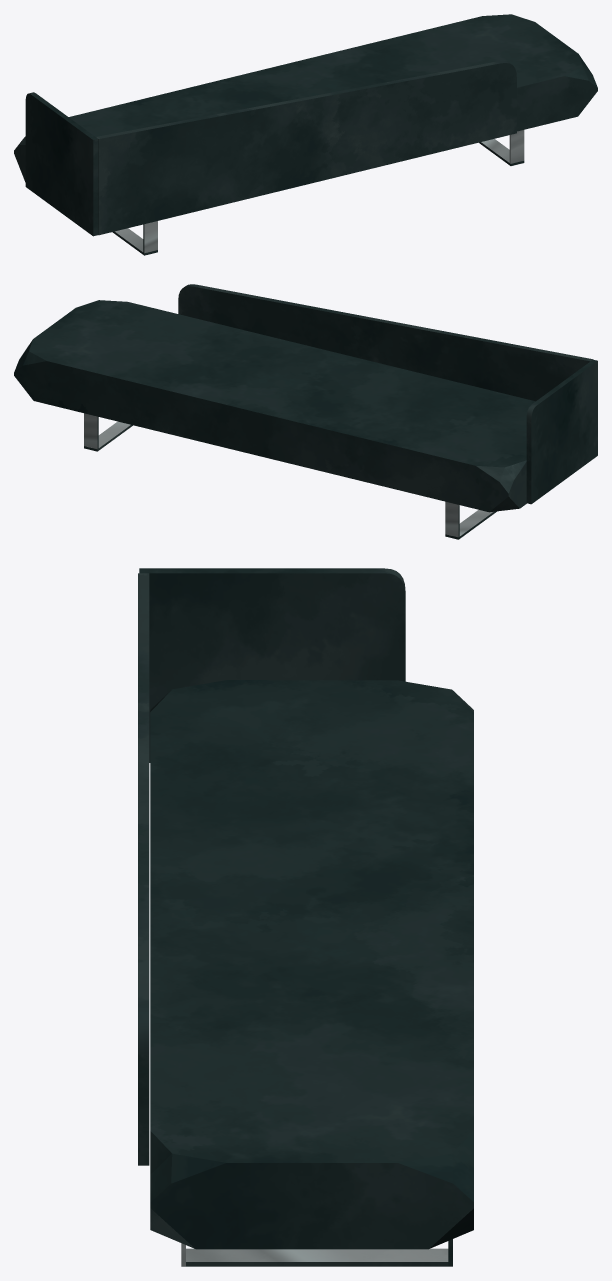
Rendered from Canapé.FBX.
3 views of the same model, one above another, from view 1: azimuth 30°, elevation 25°; view 2: azimuth 150°, elevation 25°; view 3: azimuth 270°, elevation 25° (orthographic). The views are drawn at different scales.
Visible parts, largest first — view 1: canapé; view 2: canapé; view 3: canapé.
Part boxes in pixels (bbox=[...]): canapé: bbox=[14, 14, 597, 255]; canapé: bbox=[14, 284, 597, 539]; canapé: bbox=[138, 568, 473, 1266].
Bounding box in the file's own units: 3.03 × 0.7909 × 0.8828.
